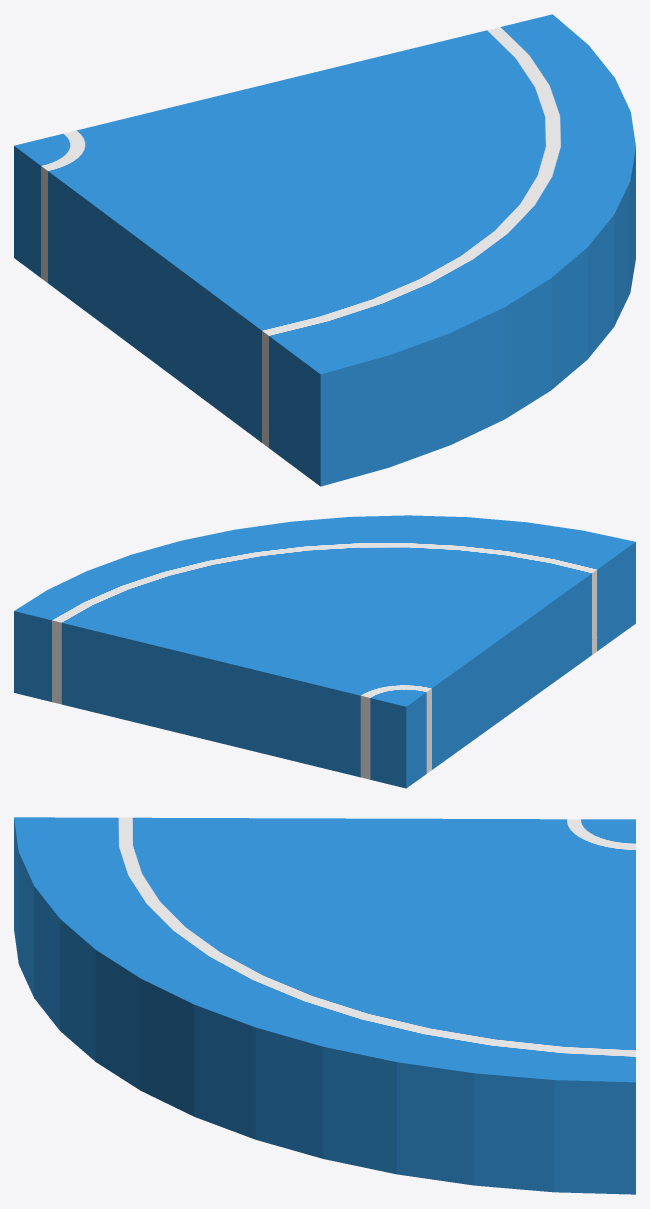
3 renders of one model, top to bottom at view 1: azimuth 30°, elevation 25°; view 2: azimuth 150°, elevation 25°; view 3: azimuth 270°, elevation 25°, orthographic. The views are drawn at different scales.
Parts seen in each view (by area): view 1: Cube; view 2: Cube; view 3: Cube.
Part boxes in pixels (<box>): Cube: <box>14,14,635,486</box>; Cube: <box>14,515,635,788</box>; Cube: <box>14,817,635,1194</box>.
Bounding box in the file's own units: 5.04 × 0.9957 × 5.
Materials: 1 (1 with a texture image).
